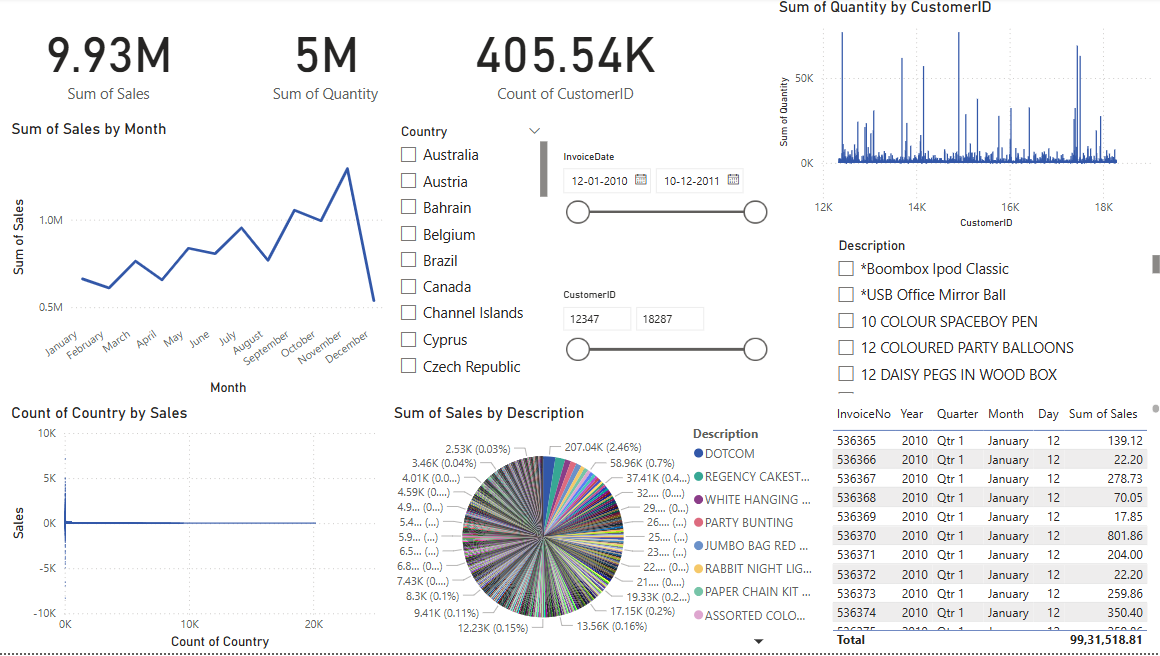

The page's visual inventory and layout, read from the dashboard file:
{"tool":"powerbi","page":{"name":"Page 1","canvas":[1280,720],"ordinal":0},"visuals":[{"type":"card","fields":{"Values":["Sum(online_retail_cleaned.Sales)"]},"box":[23.3,0,196.2,134.5],"z":0},{"type":"card","fields":{"Values":["Sum(online_retail_cleaned.Quantity)"]},"box":[271.7,0,175.6,134.5],"z":1000},{"type":"card","fields":{"Values":["CountNonNull(online_retail_cleaned.CustomerID)"]},"box":[505,0,236,134.5],"z":2000},{"type":"lineChart","fields":{"Category":["online_retail_cleaned.InvoiceDate.Variation.Date Hierarchy.Month"],"Y":["Sum(online_retail_cleaned.Sales)"]},"box":[9.6,134.5,419.9,307.4],"z":3000},{"type":"clusteredBarChart","fields":{"Y":["CountNonNull(online_retail_cleaned.Country)"],"Category":["online_retail_cleaned.Sales"]},"box":[9.6,446,419.9,274.4],"z":4000},{"type":"pieChart","fields":{"Y":["Sum(online_retail_cleaned.Sales)"],"Category":["online_retail_cleaned.Description"]},"box":[429.5,446,480.3,274.4],"z":5000},{"type":"clusteredColumnChart","fields":{"Category":["online_retail_cleaned.CustomerID"],"Y":["Sum(online_retail_cleaned.Quantity)"]},"box":[852.1,0,428.1,259.3],"z":6000},{"type":"tableEx","fields":{"Values":["online_retail_cleaned.InvoiceNo","online_retail_cleaned.InvoiceDate.Variation.Date Hierarchy.Year","online_retail_cleaned.InvoiceDate.Variation.Date Hierarchy.Quarter","online_retail_cleaned.InvoiceDate.Variation.Date Hierarchy.Month","online_retail_cleaned.InvoiceDate.Variation.Date Hierarchy.Day","Sum(online_retail_cleaned.Sales)"]},"box":[909.8,441.9,370.5,278.6],"z":7000},{"type":"slicer","fields":{"Values":["online_retail_cleaned.Country"]},"box":[429.5,134.5,178.4,288.2],"z":8000},{"type":"slicer","fields":{"Values":["online_retail_cleaned.Description"]},"box":[909.8,259.3,370.5,181.1],"z":9000},{"type":"slicer","fields":{"Values":["online_retail_cleaned.InvoiceDate"]},"box":[607.9,163.3,244.3,124.9],"z":10000},{"type":"slicer","fields":{"Values":["online_retail_cleaned.CustomerID"]},"box":[607.9,315.6,244.3,124.9],"z":11000}]}

Visuals, with their boxes in screenshot pixels (x1, y1, x2, y2), scaled from the page's 1280x720 canvas onto the 1160x656 screenshot:
card - Sum(online_retail_cleaned.Sales): [left=21, top=0, right=199, bottom=123]
card - Sum(online_retail_cleaned.Quantity): [left=246, top=0, right=405, bottom=123]
card - CountNonNull(online_retail_cleaned.CustomerID): [left=458, top=0, right=672, bottom=123]
lineChart - online_retail_cleaned.InvoiceDate.Variation.Date Hierarchy.Month x Sum(online_retail_cleaned.Sales): [left=9, top=123, right=389, bottom=403]
clusteredBarChart - CountNonNull(online_retail_cleaned.Country) x online_retail_cleaned.Sales: [left=9, top=406, right=389, bottom=655]
pieChart - Sum(online_retail_cleaned.Sales) x online_retail_cleaned.Description: [left=389, top=406, right=825, bottom=655]
clusteredColumnChart - online_retail_cleaned.CustomerID x Sum(online_retail_cleaned.Quantity): [left=772, top=0, right=1159, bottom=236]
tableEx - online_retail_cleaned.InvoiceNo x online_retail_cleaned.InvoiceDate.Variation.Date Hierarchy.Year: [left=825, top=403, right=1159, bottom=655]
slicer - online_retail_cleaned.Country: [left=389, top=123, right=551, bottom=385]
slicer - online_retail_cleaned.Description: [left=825, top=236, right=1159, bottom=401]
slicer - online_retail_cleaned.InvoiceDate: [left=551, top=149, right=772, bottom=263]
slicer - online_retail_cleaned.CustomerID: [left=551, top=288, right=772, bottom=401]
